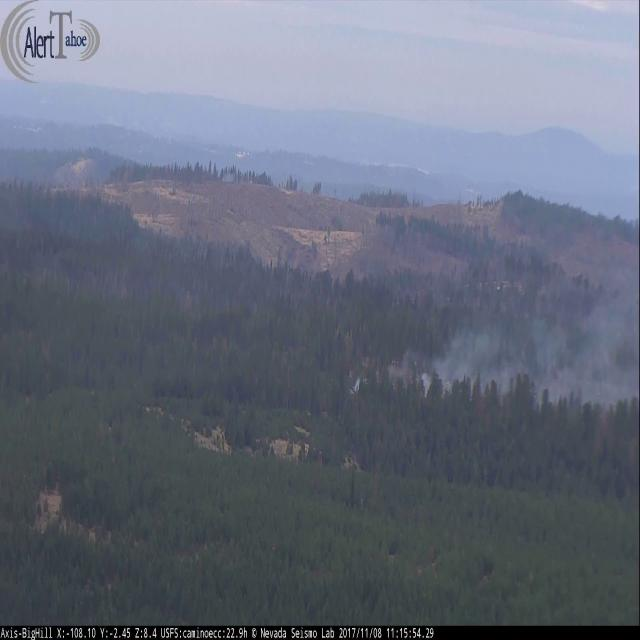smoke: (345, 235, 640, 406)
